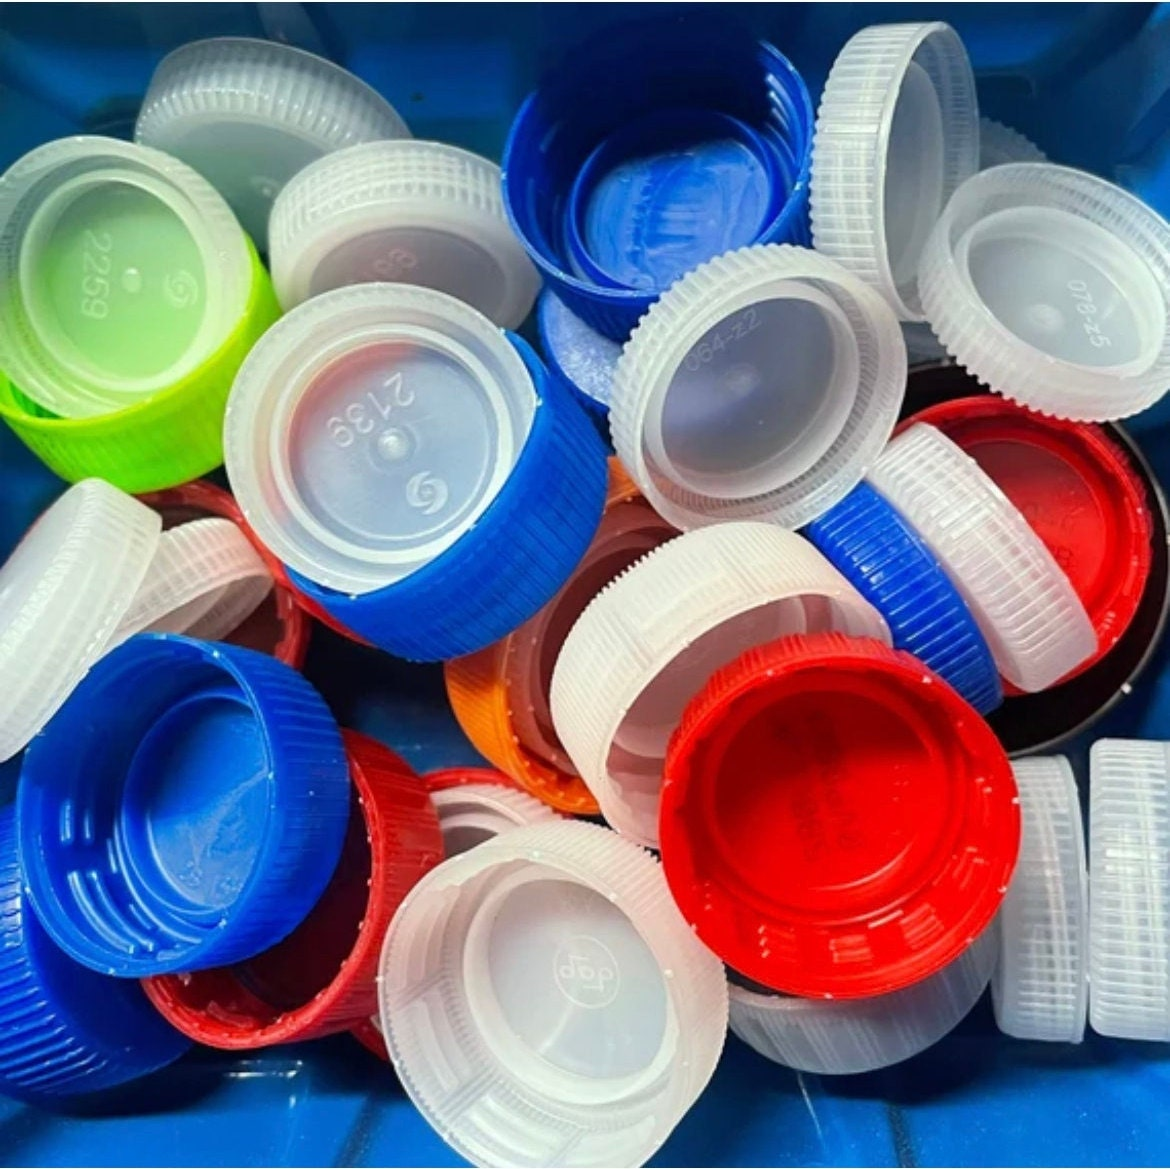PlasticCap: (665, 665, 1014, 991), (395, 845, 686, 1164), (245, 297, 529, 606), (52, 653, 330, 948), (620, 265, 880, 505), (957, 173, 1159, 417)
